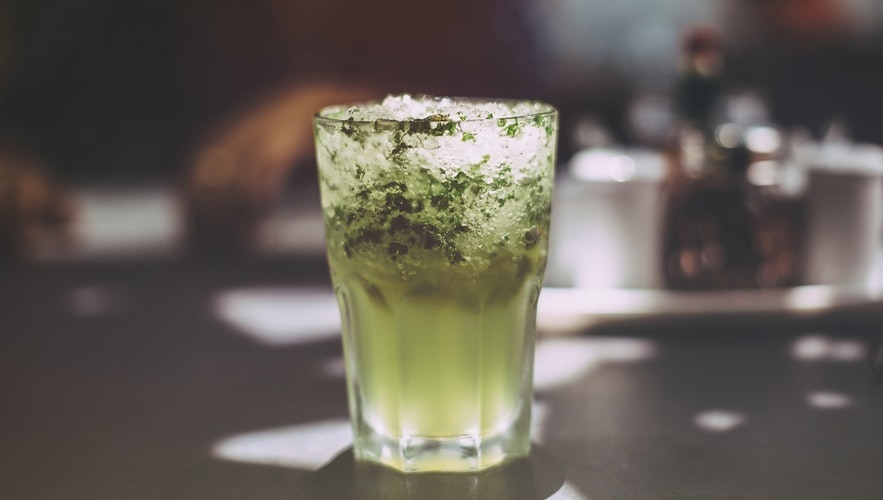whiskey: (321, 99, 558, 472)
